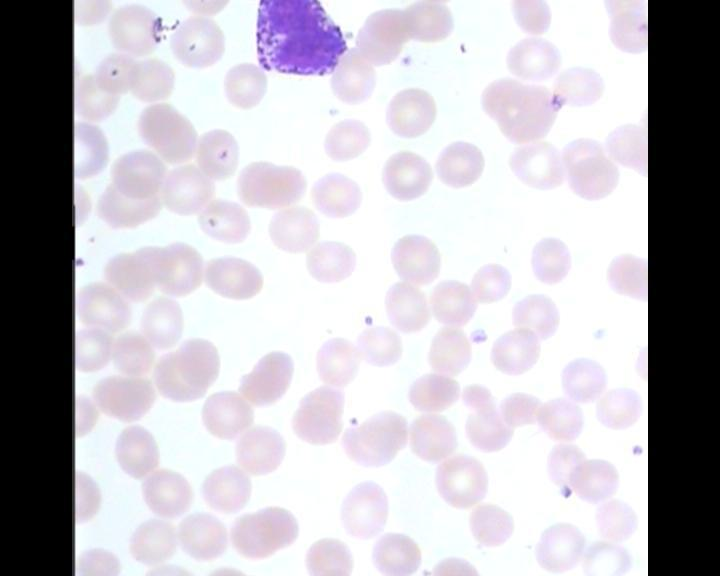baso: (248, 0, 351, 80)
